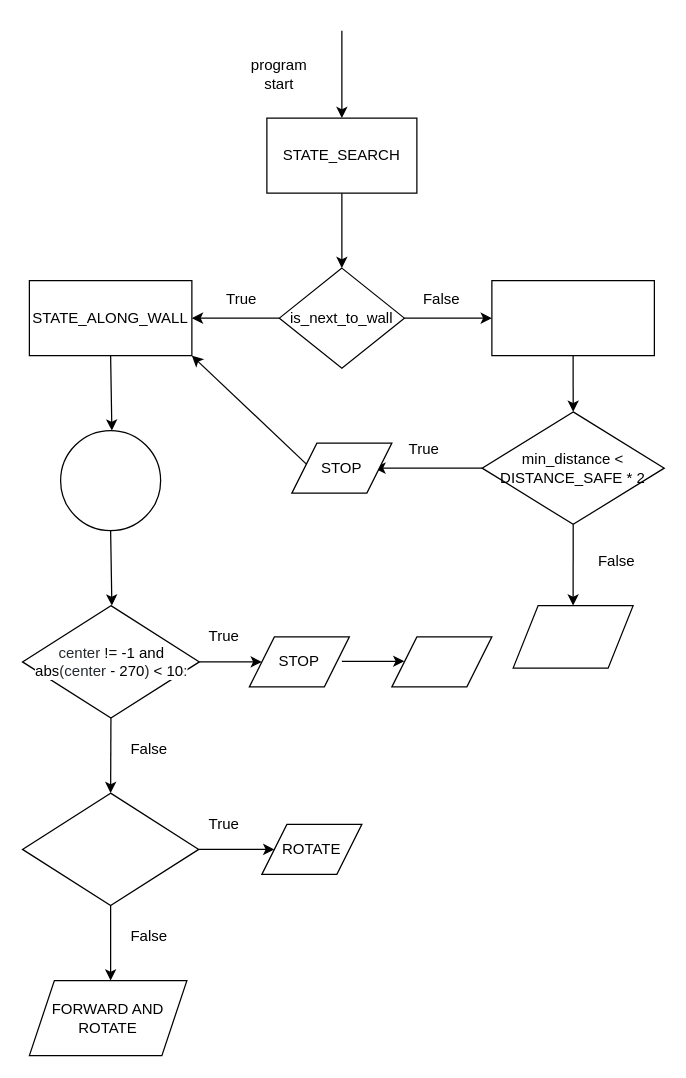
The diagram is 686 pixels wide and 1078 high, and some of its shapes have lost their labels. Each missing label, with the centre of its shape:
"EXIT" belongs at point (441, 661).
"find_center" belongs at point (110, 480).
"FORWARD" belongs at point (572, 636).
"forward_distance < DISTANCE_CLOSE" belongs at point (110, 849).
"STATE_TO_WALL" belongs at point (572, 317).
